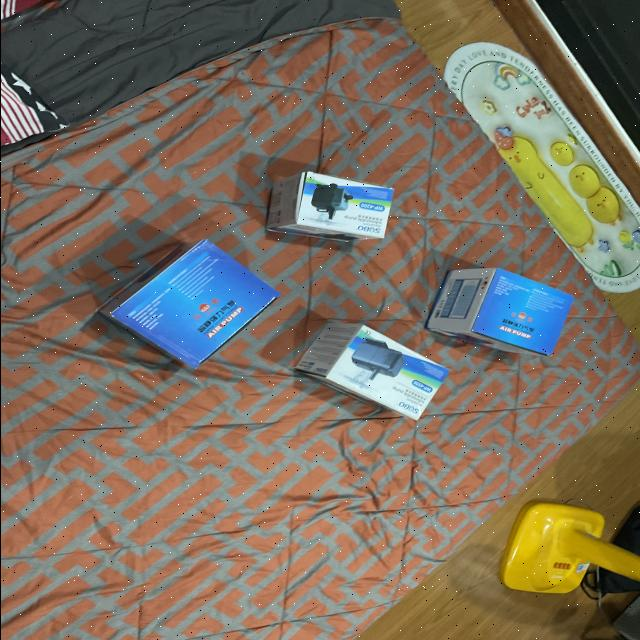SOBO_WP_4200: (278, 315, 448, 435), (257, 166, 404, 248)
YAMANO_LPP_20: (86, 227, 274, 392), (422, 252, 580, 376)
